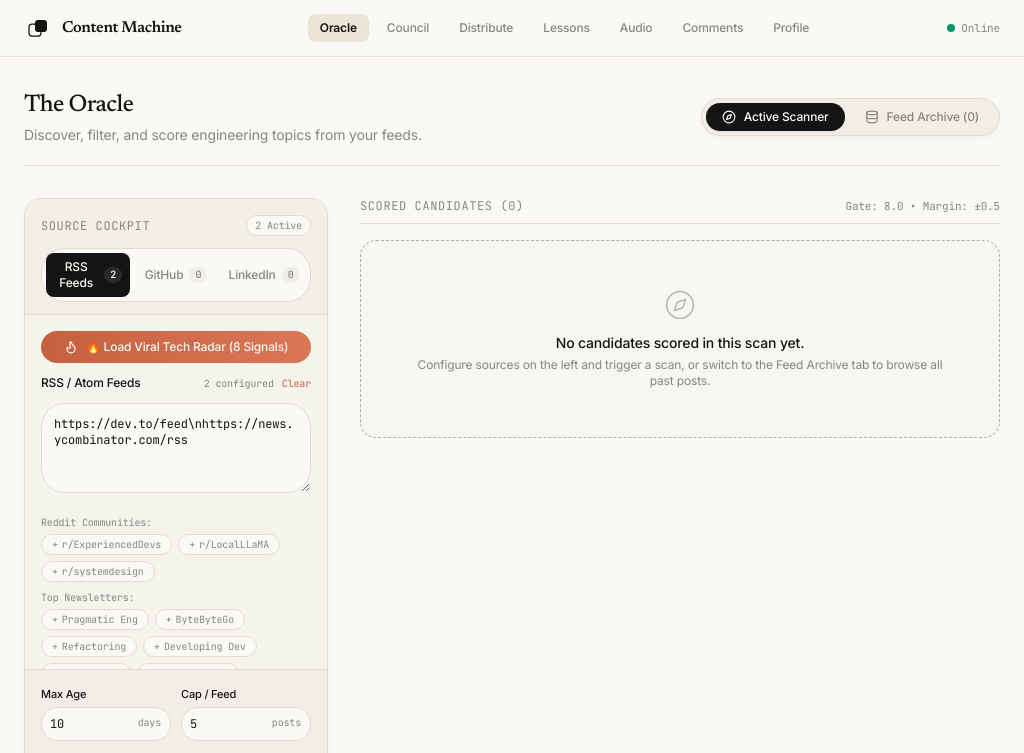
Scenario: App shell › switches tabs on nav click
Step 1. Click the button "Profile" → (791, 28), box [761, 14, 821, 42]
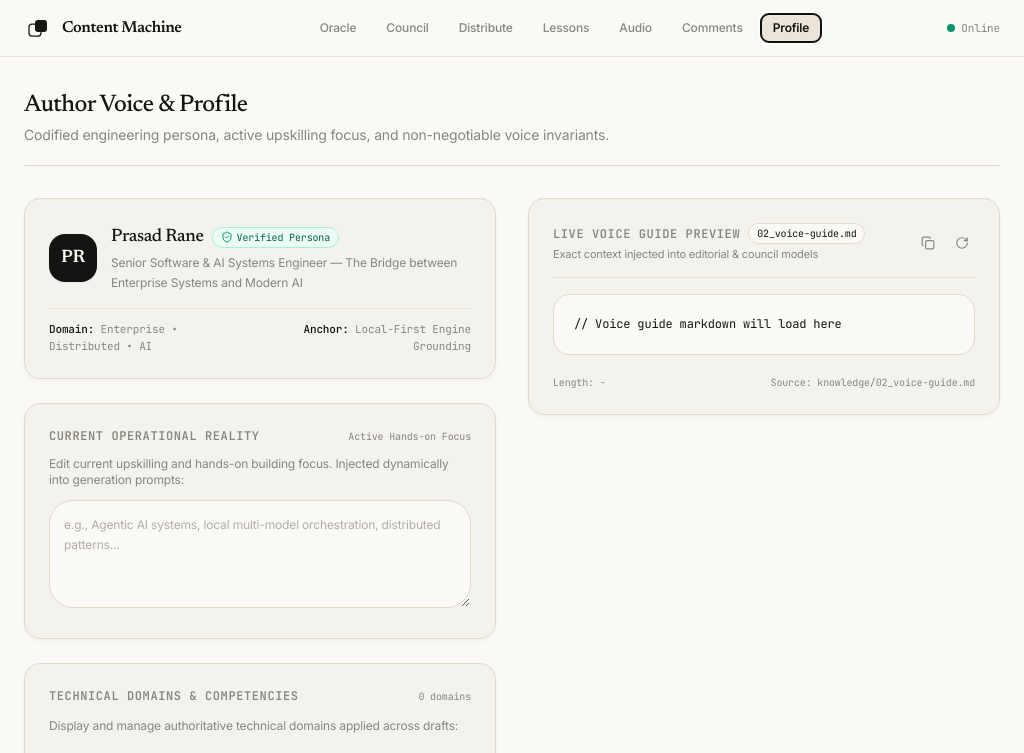
Expected: the heading "Author Voice & Profile" is shown, [24, 93, 248, 117]
